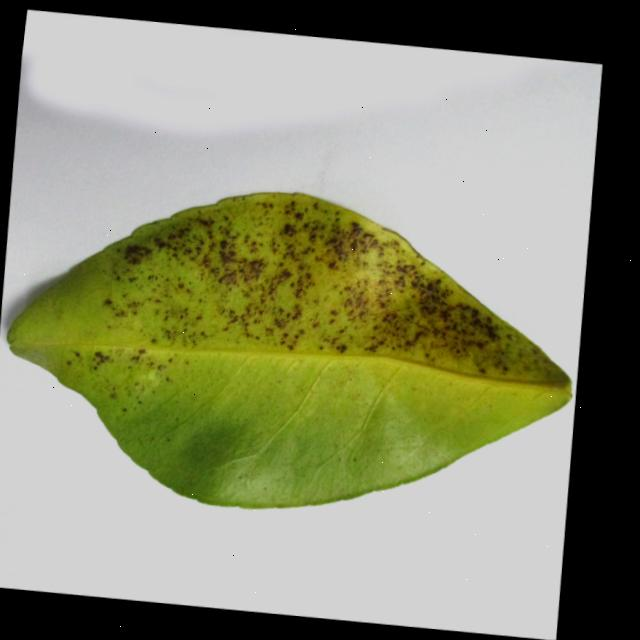melanose: (6, 191, 570, 507)
